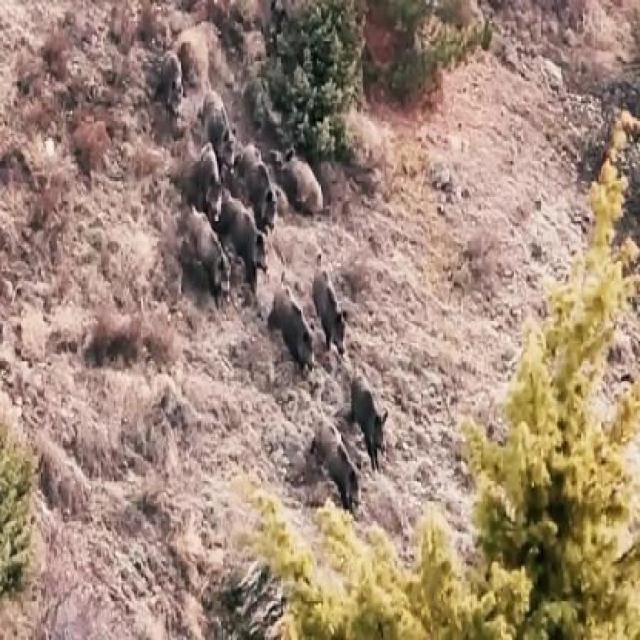WildBoar: (318, 411, 372, 502), (179, 199, 223, 293), (270, 268, 310, 364), (313, 259, 347, 370), (352, 373, 397, 453)
